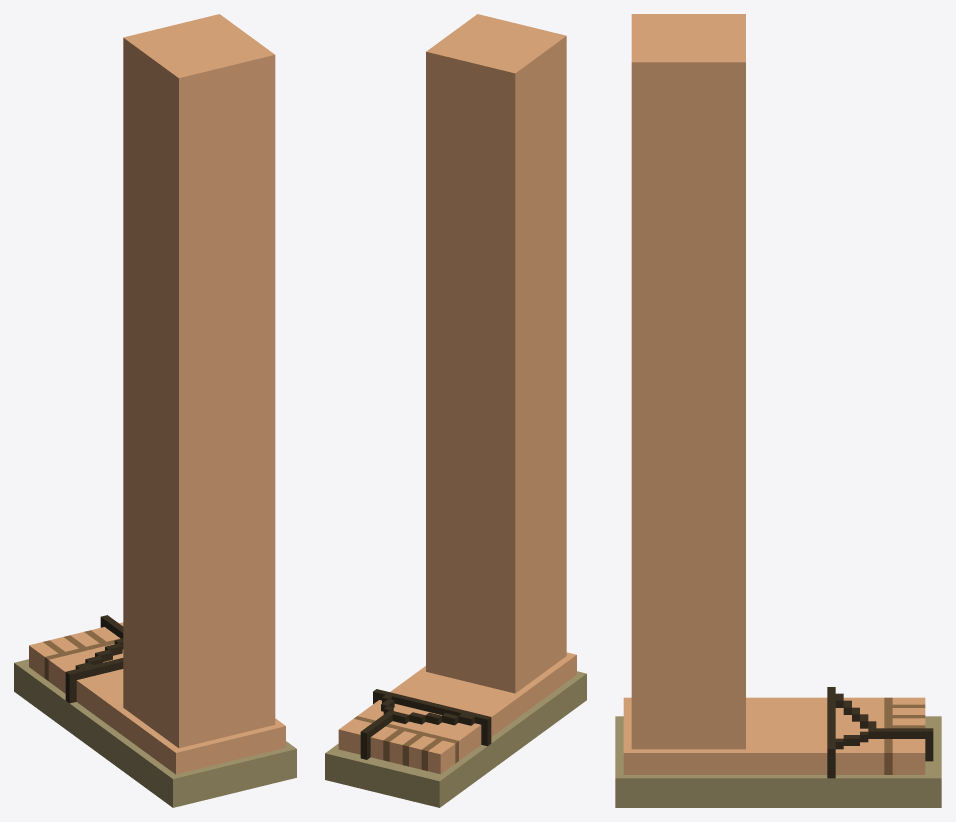
Rendered from LeftLowerLeg.obj.
3 views of the same model, side by side, from view 1: azimuth 30°, elevation 25°; view 2: azimuth 150°, elevation 25°; view 3: azimuth 270°, elevation 25° (orthographic). The views are drawn at different scales.
Size of the model in its own units: 1.8 by 10 by 4.
Materials: 1 (1 with a texture image).
